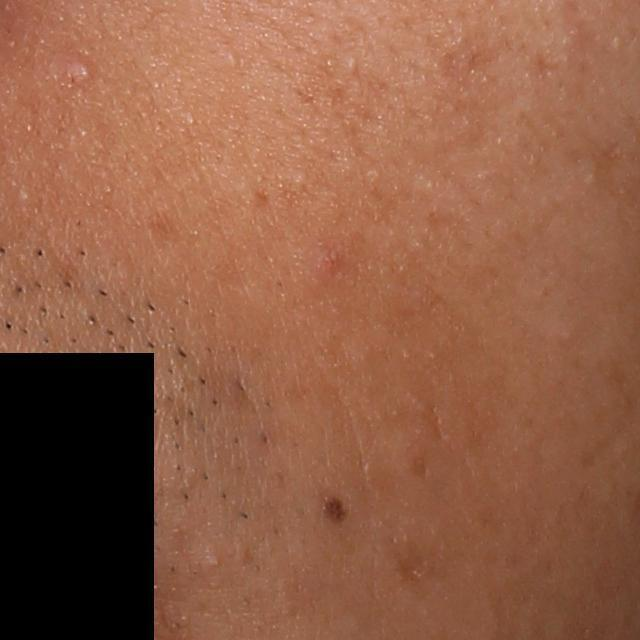comedo: (203, 549, 225, 573)
nevus: (320, 496, 351, 529)
papule: (316, 254, 342, 278)
